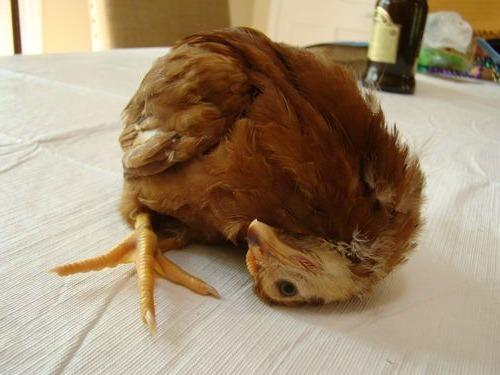AbNormal: (49, 26, 420, 329)
